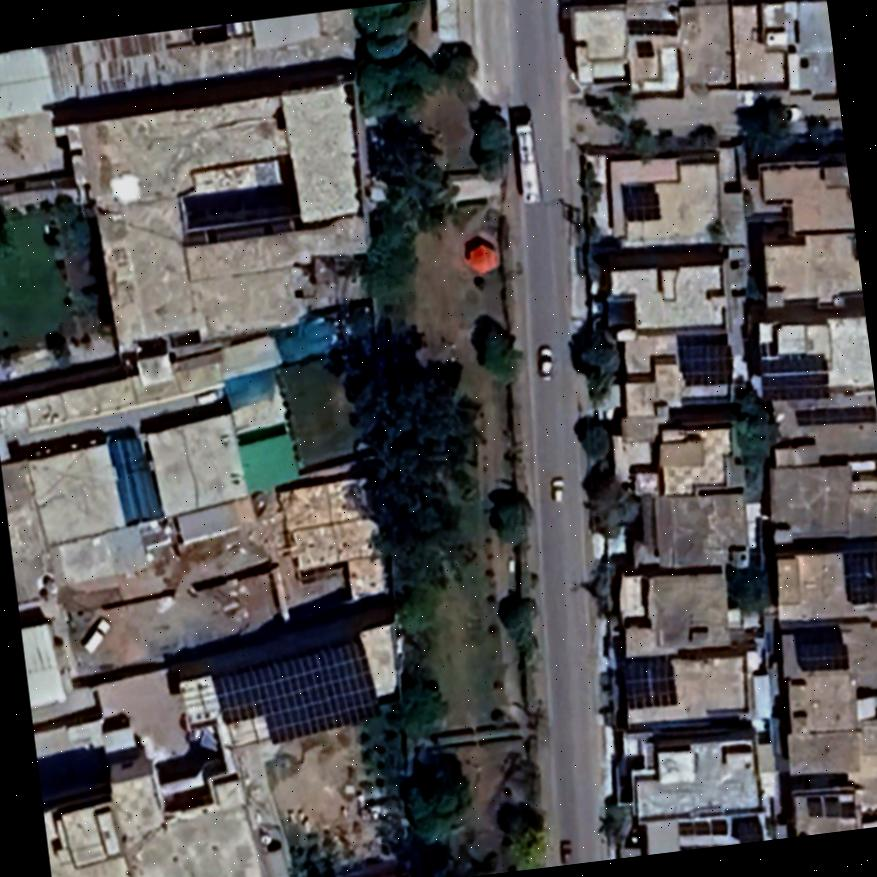Solarpanel: (198, 632, 385, 751), (754, 346, 831, 404), (614, 651, 683, 713), (675, 338, 736, 385), (837, 543, 877, 608), (618, 179, 667, 226), (793, 635, 852, 672), (673, 815, 730, 837), (804, 798, 853, 821)
